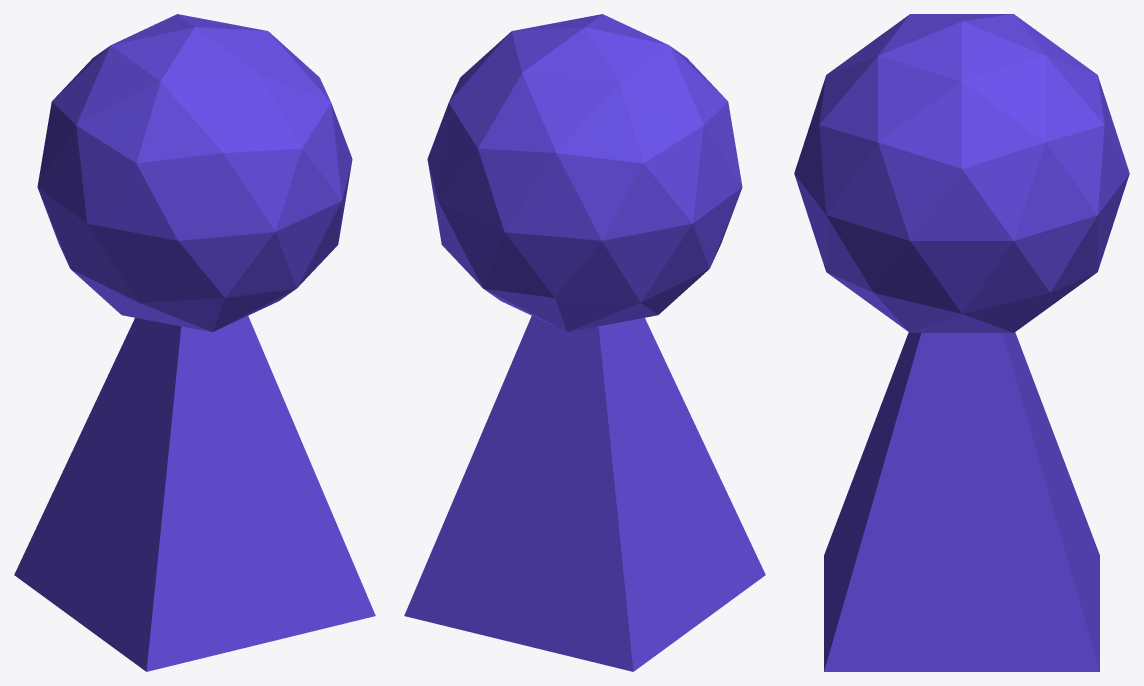
Rendered from player1.glb.
3 renders of one model, left to right at view 1: azimuth 30°, elevation 25°; view 2: azimuth 150°, elevation 25°; view 3: azimuth 270°, elevation 25°, orthographic. The views are drawn at different scales.
Visible parts, largest first — view 1: Icosphere; view 2: Icosphere; view 3: Icosphere.
Part boxes in pixels (x1,y1,x2,y2): Icosphere: [14, 14, 375, 671]; Icosphere: [404, 14, 765, 671]; Icosphere: [794, 14, 1129, 671].
Size of the model in its own units: 0.1434 by 0.2935 by 0.1508.
